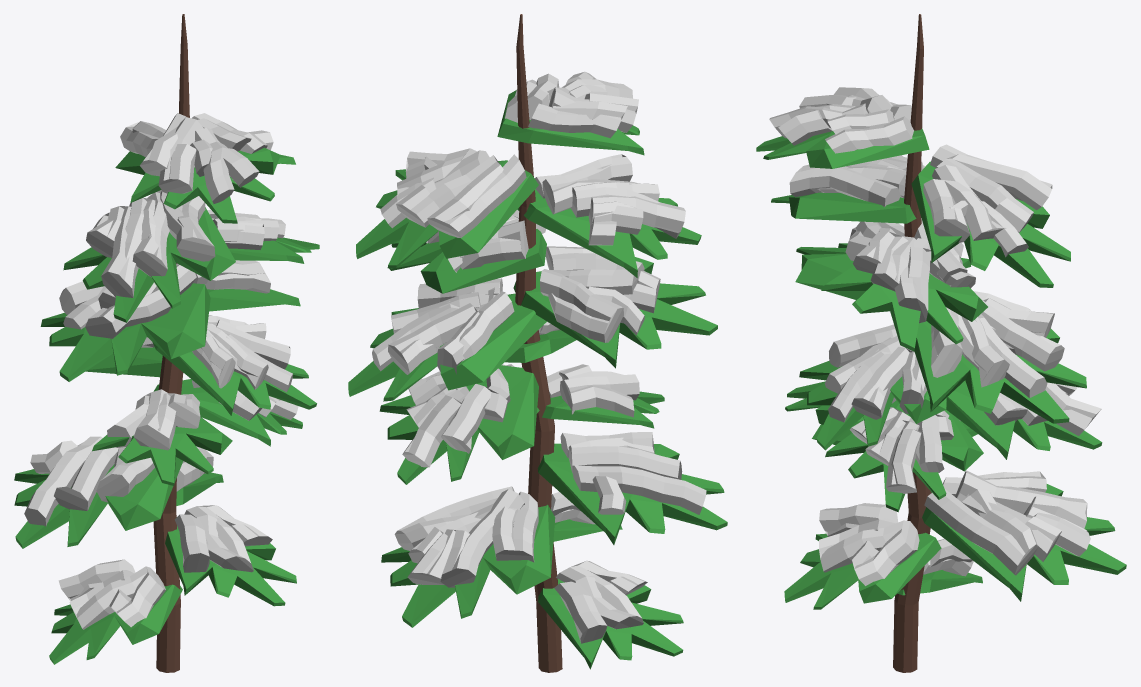
The model's file is Ch_tree_big_2.fbx.
The picture shows the model from 3 angles, left to right: view 1: azimuth 30°, elevation 25°; view 2: azimuth 150°, elevation 25°; view 3: azimuth 270°, elevation 25°; orthographic projection. The views are drawn at different scales.
Visible parts, largest first — view 1: Ch_tree_big_2; view 2: Ch_tree_big_2; view 3: Ch_tree_big_2.
Boxes of the visible parts, box(x1,y1,x2,y2) form: Ch_tree_big_2: box(14, 14, 319, 672); Ch_tree_big_2: box(348, 14, 727, 672); Ch_tree_big_2: box(756, 14, 1126, 672).
Size of the model in its own units: 349 by 686 by 347.
